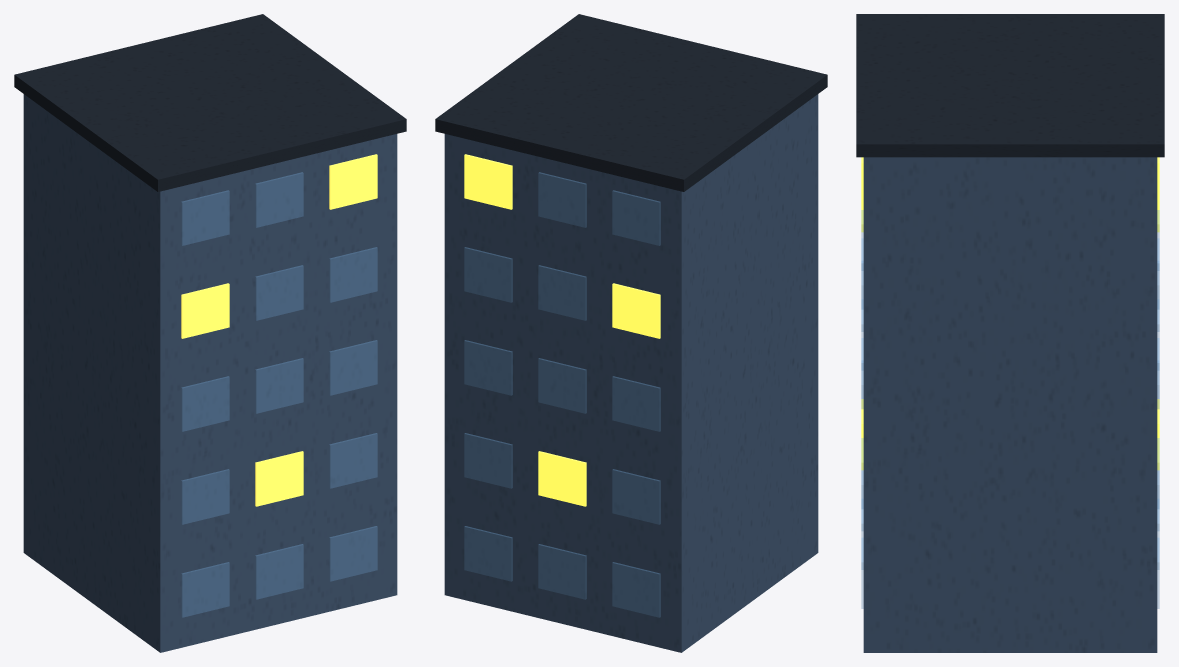
The model's file is predio-blocos.glb.
3 views of the same model, side by side, from view 1: azimuth 30°, elevation 25°; view 2: azimuth 150°, elevation 25°; view 3: azimuth 270°, elevation 25° (orthographic). The views are drawn at different scales.
Visible parts, largest first — view 1: corpo, cobertura, janela (×15); view 2: corpo, cobertura, janela (×15); view 3: corpo, cobertura.
Part boxes in pixels (x1=…): corpo: x1=23, y1=94, x2=397, y2=652; cobertura: x1=14, y1=14, x2=406, y2=191; janela (×15): x1=181, y1=154, x2=377, y2=617; corpo: x1=444, y1=94, x2=818, y2=652; cobertura: x1=435, y1=14, x2=827, y2=191; janela (×15): x1=464, y1=154, x2=660, y2=617; corpo: x1=863, y1=157, x2=1157, y2=652; cobertura: x1=856, y1=14, x2=1164, y2=157.
Size of the model in its own units: 8.4 by 15.4 by 8.4.
4 materials, 2 textured.
